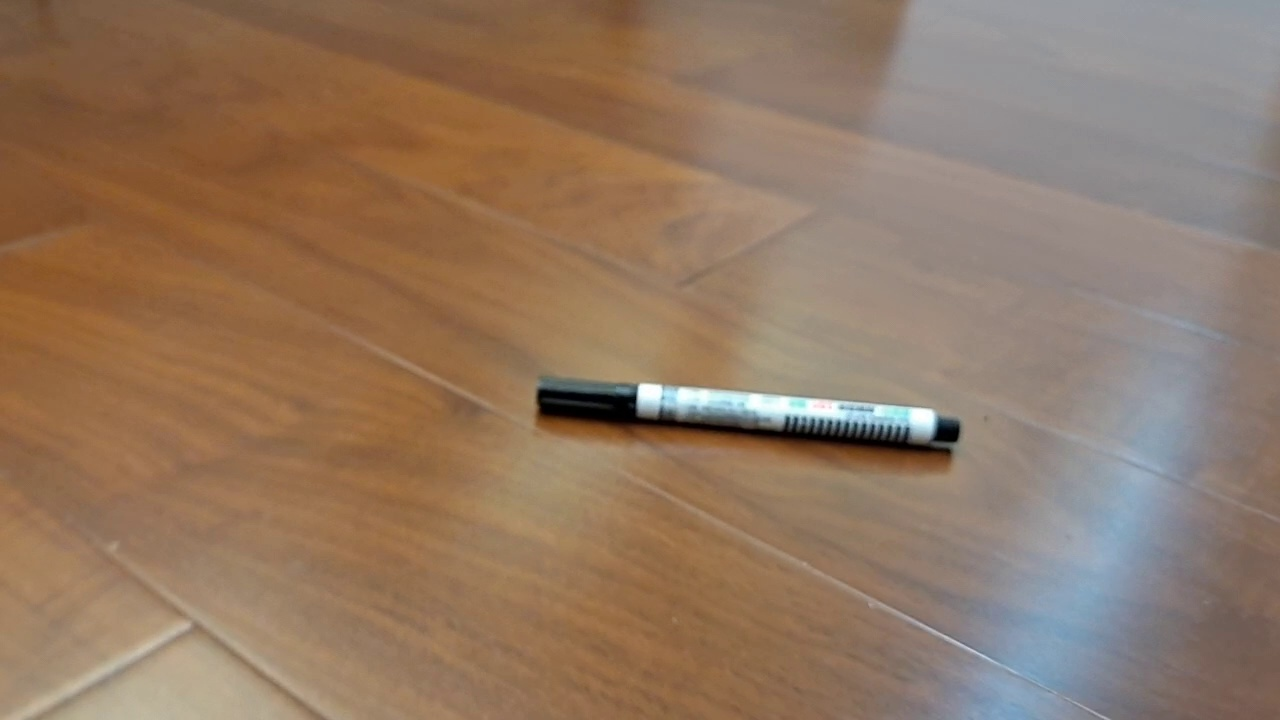pen: (535, 375, 961, 448)
